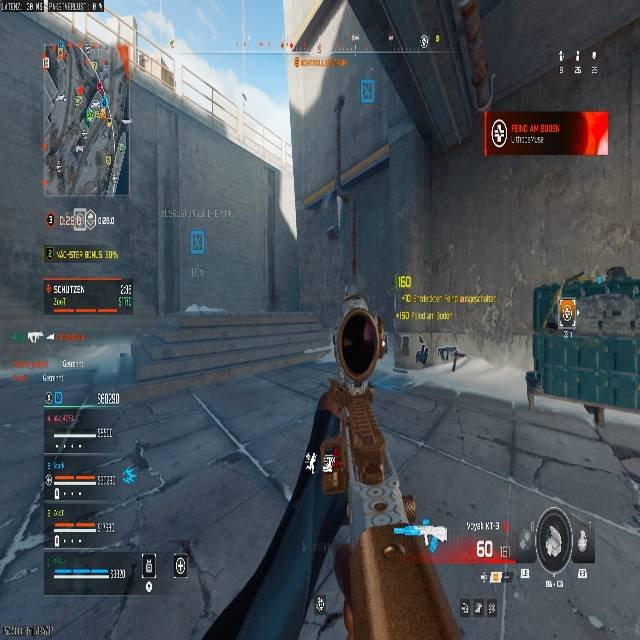head: (526, 370, 533, 377)
player: (525, 369, 540, 411), (441, 347, 464, 371)
